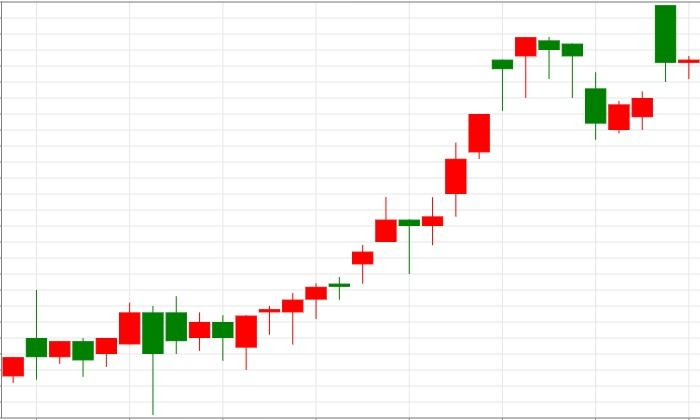bearish_engulfing_fall: (2, 289, 163, 415)
hanging_man_fall: (235, 37, 536, 371)
